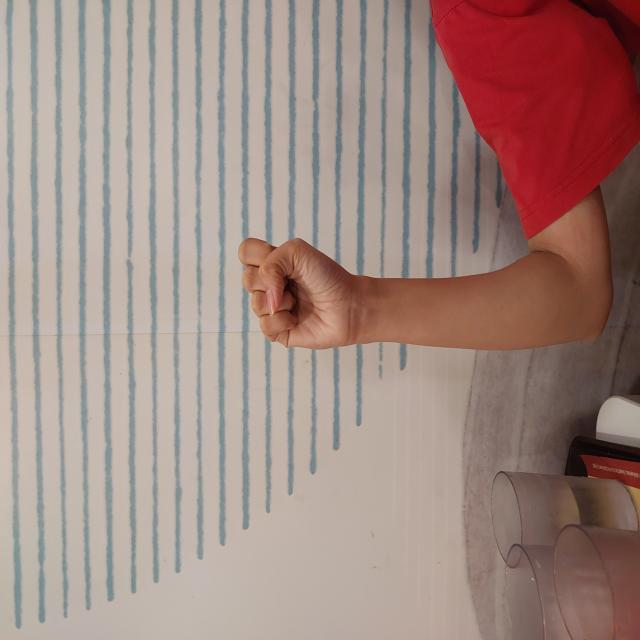S: (288, 237, 408, 355)
